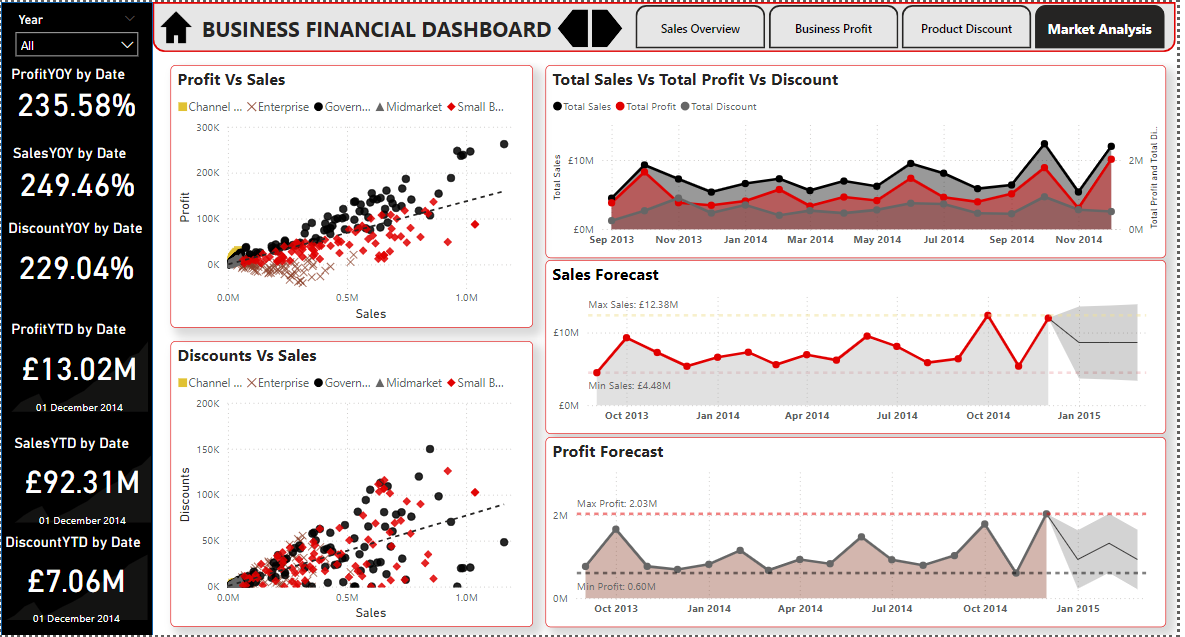

Layout of this report page (visuals, bound fields, positions):
{"tool":"powerbi","page":{"name":"Market Analysis","canvas":[1351,728],"ordinal":3},"visuals":[{"type":"shape","box":[174.6,0,1176.3,57.6],"z":0},{"type":"shape","box":[0,0,174.6,728.8],"z":1000},{"type":"scatterChart","title":"Discounts Vs Sales","fields":{"X":["financials. Sales"],"Series":["financials.Segment"],"Y":["financials.Discounts"]},"box":[195,390,416.7,328.3],"z":3000},{"type":"kpi","fields":{"Indicator":["MyMeasures.ProfitYOY"],"TrendLine":["financials.Date"]},"box":[6.7,71.7,160,71.7],"z":4000},{"type":"lineChart","title":"Total Sales Vs Total Profit Vs Discount","fields":{"Y":["MyMeasures.Total Sales"],"Category":["financials.Date.Variation.Date Hierarchy.Year","financials.Date.Variation.Date Hierarchy.Quarter","financials.Date.Variation.Date Hierarchy.Month","financials.Date.Variation.Date Hierarchy.Day"],"Y2":["MyMeasures.Total Profit","MyMeasures.Total Discount"]},"box":[626.7,71.7,713.3,221.7],"z":5000},{"type":"slicer","fields":{"Values":["financials.Date.Variation.Date Hierarchy.Year"]},"box":[6.9,6.9,160.3,89.7],"z":6000},{"type":"kpi","fields":{"Indicator":["MyMeasures.ProfitYTD"],"TrendLine":["financials.Date"]},"box":[6.7,365,166.7,110],"z":7000},{"type":"kpi","fields":{"Indicator":["MyMeasures.SalesYTD"],"TrendLine":["financials.Date"]},"box":[10,496.7,166.7,106.7],"z":8000},{"type":"kpi","fields":{"Indicator":["MyMeasures.DiscountYTD"],"TrendLine":["financials.Date"]},"box":[0,610,173.3,105],"z":9000},{"type":"textbox","box":[296.7,41.7,160,33.3],"z":10000},{"type":"scatterChart","title":"Profit Vs Sales","fields":{"X":["financials. Sales"],"Y":["financials.Profit"],"Series":["financials.Segment"]},"box":[195,71.7,416.7,301.7],"z":14000},{"type":"lineChart","title":"Sales Forecast","fields":{"Y":["MyMeasures.Total Sales"],"Category":["financials.Date.Variation.Date Hierarchy.Year","financials.Date.Variation.Date Hierarchy.Quarter","financials.Date.Variation.Date Hierarchy.Month","financials.Date.Variation.Date Hierarchy.Day"]},"box":[626.7,296.7,713.3,200],"z":15000},{"type":"lineChart","title":"Profit Forecast","fields":{"Y":["MyMeasures.Total Profit"],"Category":["financials.Date.Variation.Date Hierarchy.Year","financials.Date.Variation.Date Hierarchy.Quarter","financials.Date.Variation.Date Hierarchy.Month","financials.Date.Variation.Date Hierarchy.Day"]},"box":[626.7,500,713.3,218.3],"z":16000},{"type":"kpi","fields":{"TrendLine":["financials.Date"],"Indicator":["MyMeasures.SalesYOY"]},"box":[8.3,163.3,158.3,73.3],"z":17000},{"type":"kpi","fields":{"TrendLine":["financials.Date"],"Indicator":["MyMeasures.DiscountYOY"]},"box":[3.3,250,166.7,91.7],"z":18000},{"type":"textbox","box":[225,8.3,443.3,41.7],"z":18001},{"type":"pageNavigator","box":[730,3.3,610,50],"z":18002},{"type":"image","box":[178.3,0,46.7,58.3],"z":18003},{"type":"shape","box":[680,8.3,35,43.3],"z":18004},{"type":"shape","box":[640,8.3,35,43.3],"z":18005}]}

Visuals, with their boxes in screenshot pixels (x1, y1, x2, y2), scaled from the page's 1351x728 canvas onto the 1185x637 screenshot:
shape: {"x1": 153, "y1": 0, "x2": 1184, "y2": 50}
shape: {"x1": 0, "y1": 0, "x2": 153, "y2": 636}
"Discounts Vs Sales" scatterChart: {"x1": 171, "y1": 341, "x2": 537, "y2": 629}
kpi - MyMeasures.ProfitYOY x financials.Date: {"x1": 6, "y1": 63, "x2": 146, "y2": 125}
"Total Sales Vs Total Profit Vs Discount" lineChart: {"x1": 550, "y1": 63, "x2": 1175, "y2": 257}
slicer - financials.Date.Variation.Date Hierarchy.Year: {"x1": 6, "y1": 6, "x2": 147, "y2": 85}
kpi - MyMeasures.ProfitYTD x financials.Date: {"x1": 6, "y1": 319, "x2": 152, "y2": 416}
kpi - MyMeasures.SalesYTD x financials.Date: {"x1": 9, "y1": 435, "x2": 155, "y2": 528}
kpi - MyMeasures.DiscountYTD x financials.Date: {"x1": 0, "y1": 534, "x2": 152, "y2": 626}
textbox: {"x1": 260, "y1": 36, "x2": 401, "y2": 66}
"Profit Vs Sales" scatterChart: {"x1": 171, "y1": 63, "x2": 537, "y2": 327}
"Sales Forecast" lineChart: {"x1": 550, "y1": 260, "x2": 1175, "y2": 435}
"Profit Forecast" lineChart: {"x1": 550, "y1": 438, "x2": 1175, "y2": 629}
kpi - financials.Date x MyMeasures.SalesYOY: {"x1": 7, "y1": 143, "x2": 146, "y2": 207}
kpi - financials.Date x MyMeasures.DiscountYOY: {"x1": 3, "y1": 219, "x2": 149, "y2": 299}
textbox: {"x1": 197, "y1": 7, "x2": 586, "y2": 44}
pageNavigator: {"x1": 640, "y1": 3, "x2": 1175, "y2": 47}
image: {"x1": 156, "y1": 0, "x2": 197, "y2": 51}
shape: {"x1": 596, "y1": 7, "x2": 627, "y2": 45}
shape: {"x1": 561, "y1": 7, "x2": 592, "y2": 45}
